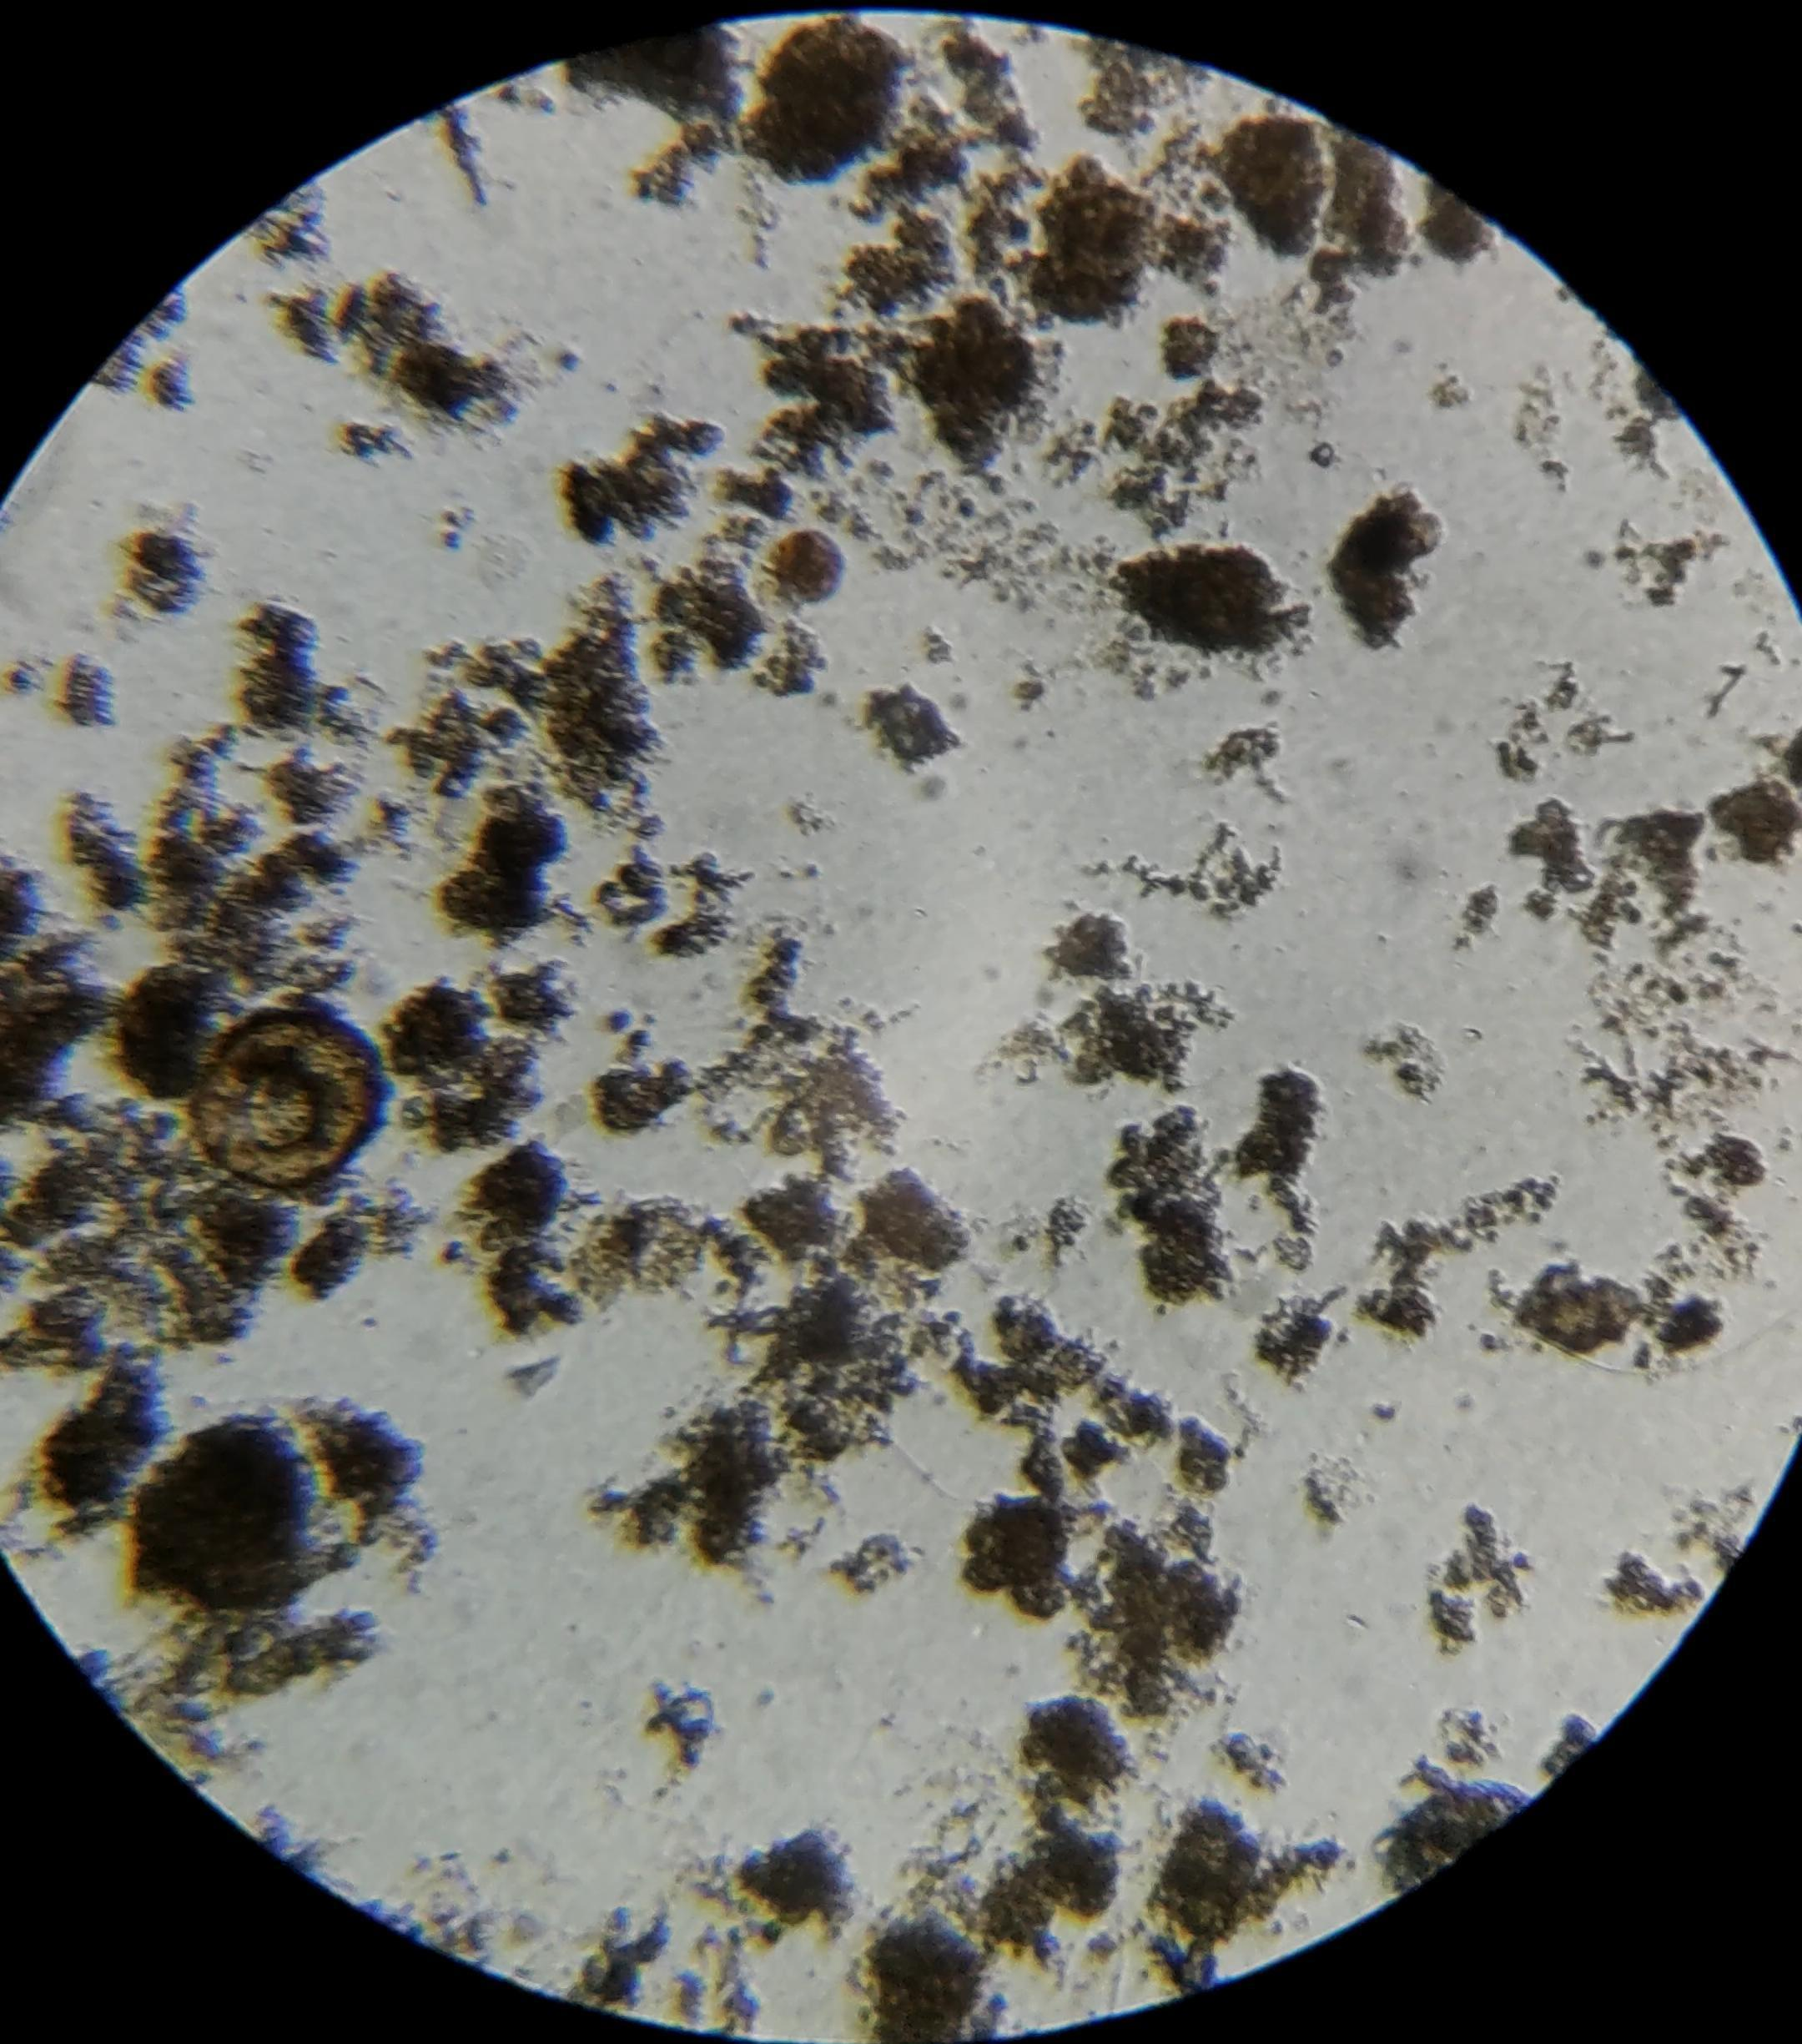Arcella: (197, 1012, 379, 1192), (774, 531, 838, 607)
Mo: (1372, 1781, 1534, 1891)
